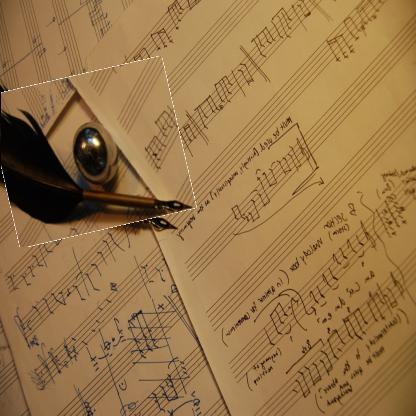Pen: (1, 65, 190, 239)
